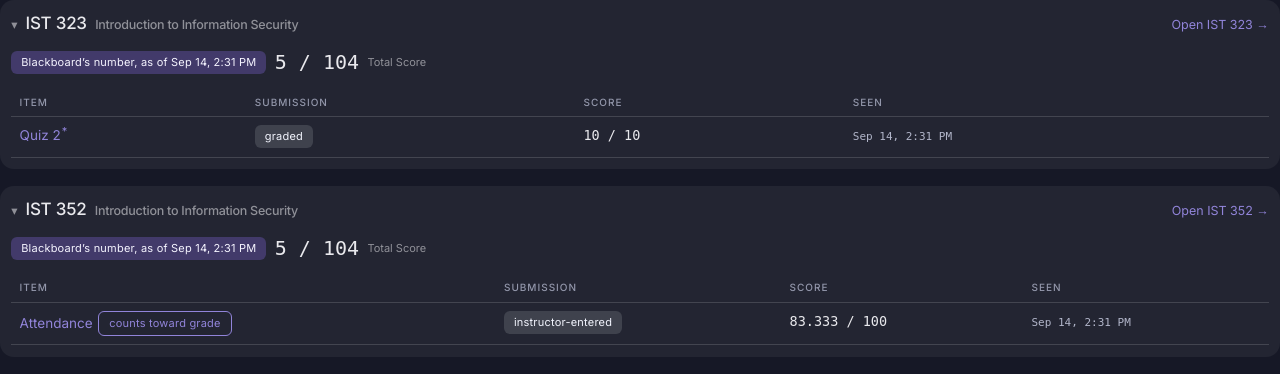
Test: GradesScreen — the class header folds the class (R3-7) › keeps each class on its own key
Click the button "▾ IST 323 Introduction to Information Security".
click(155, 24)  # box [6,11,304,36]
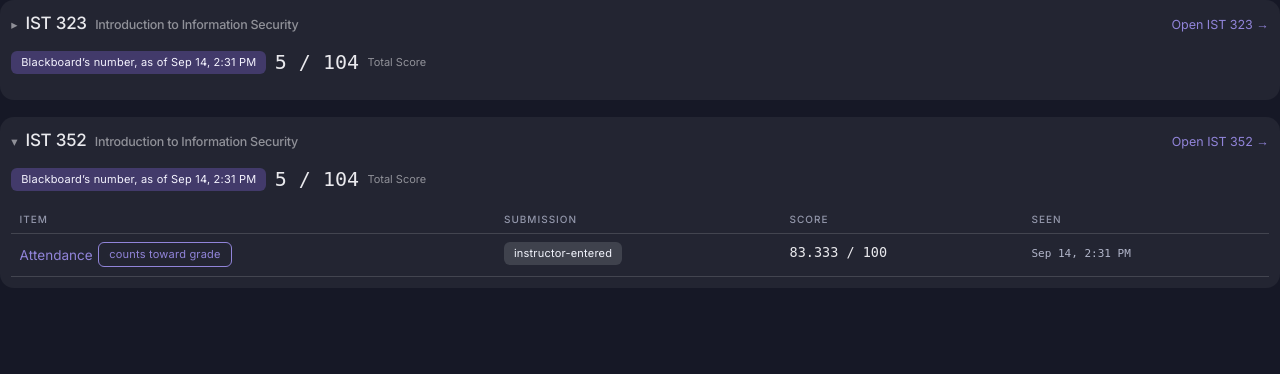
Check: the link "Attendance" is shown, box [20,246,93,262]
Check: the link "Quiz 2" is gone
